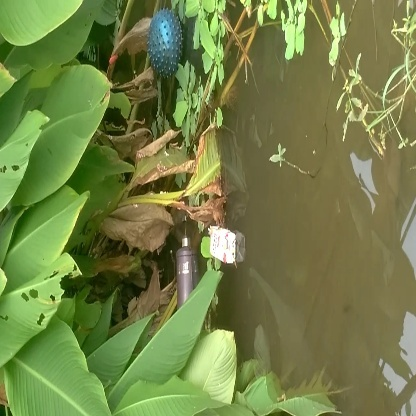bottle: (174, 231, 200, 311)
milk-box: (204, 219, 249, 279)
